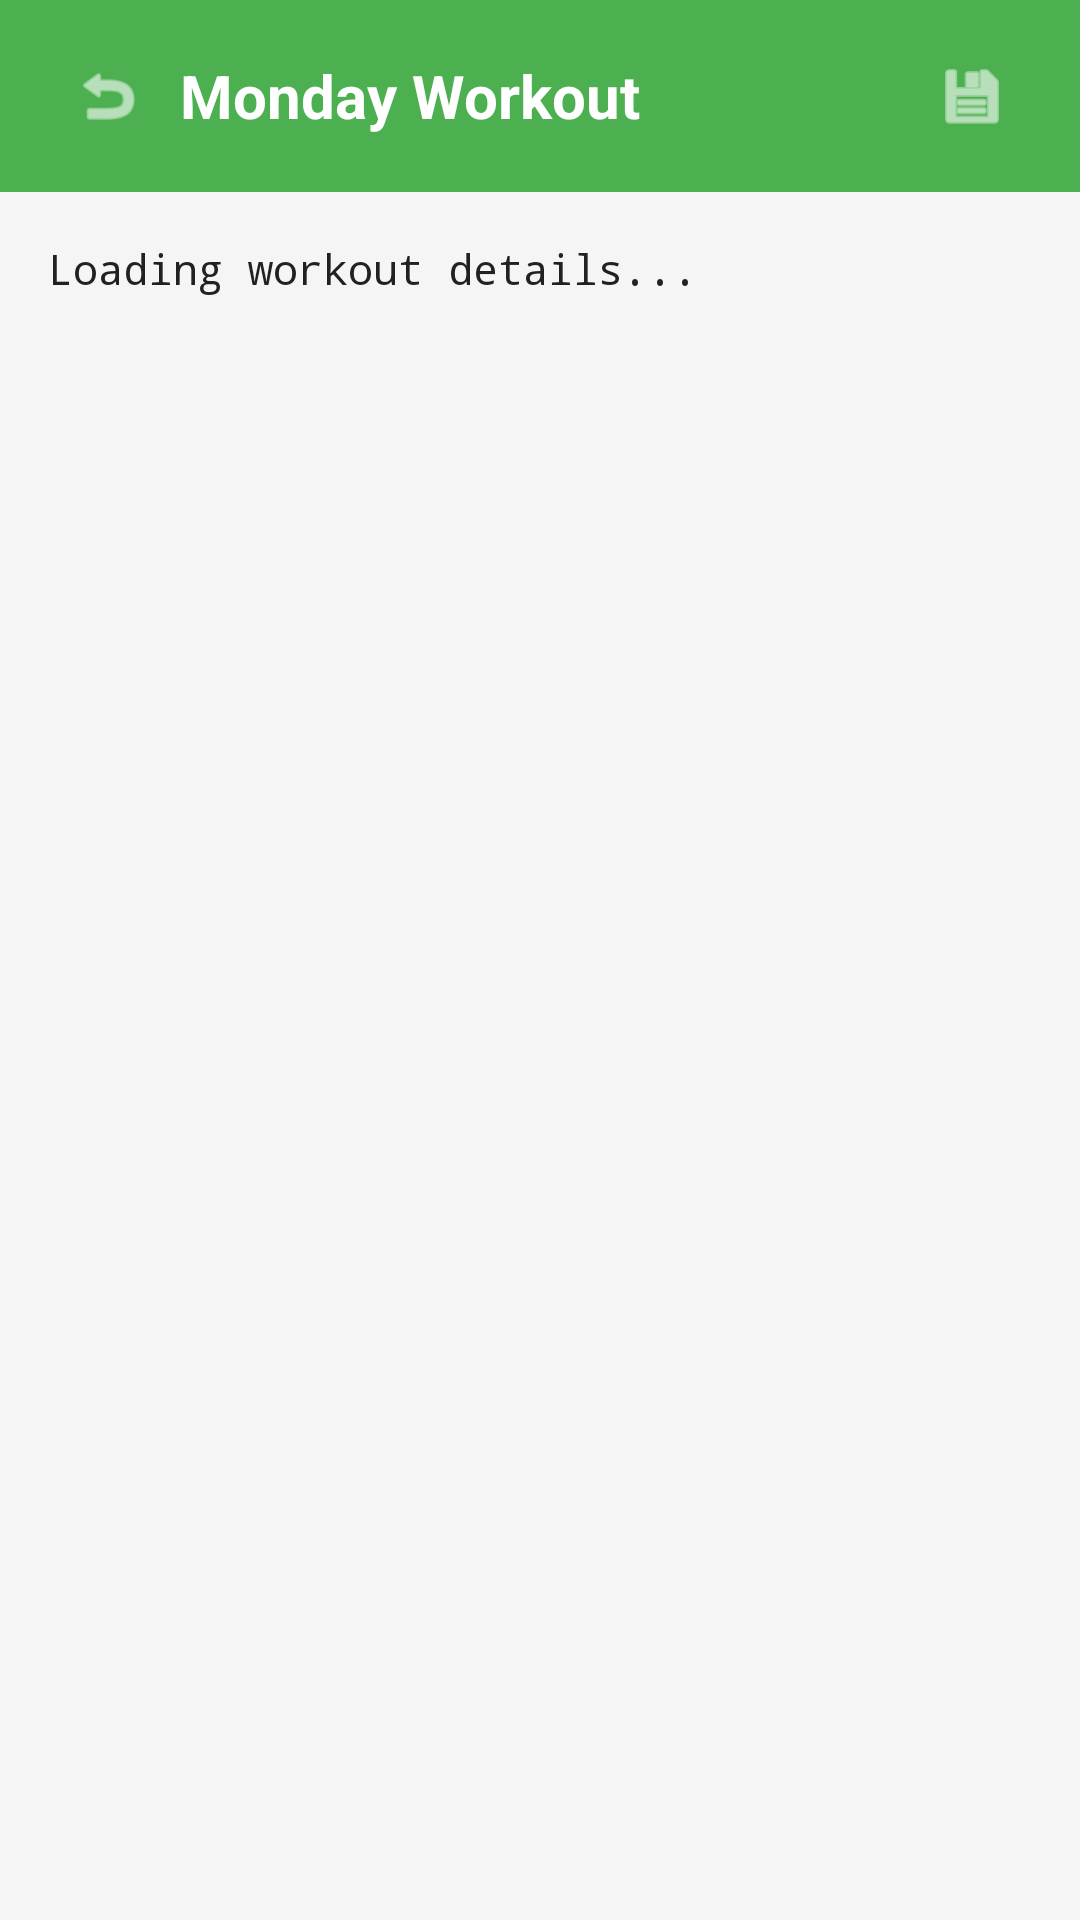

Icons on this 1080*1920 Android screen, each with its box as [x1, y1, x2, y2]:
Back: [83, 73, 135, 120]
